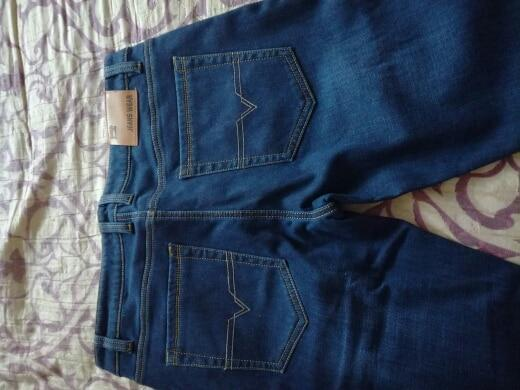jeans: (96, 2, 508, 390)
